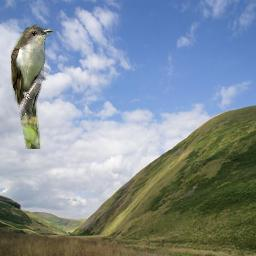Cuckoo: (11, 22, 53, 149)
